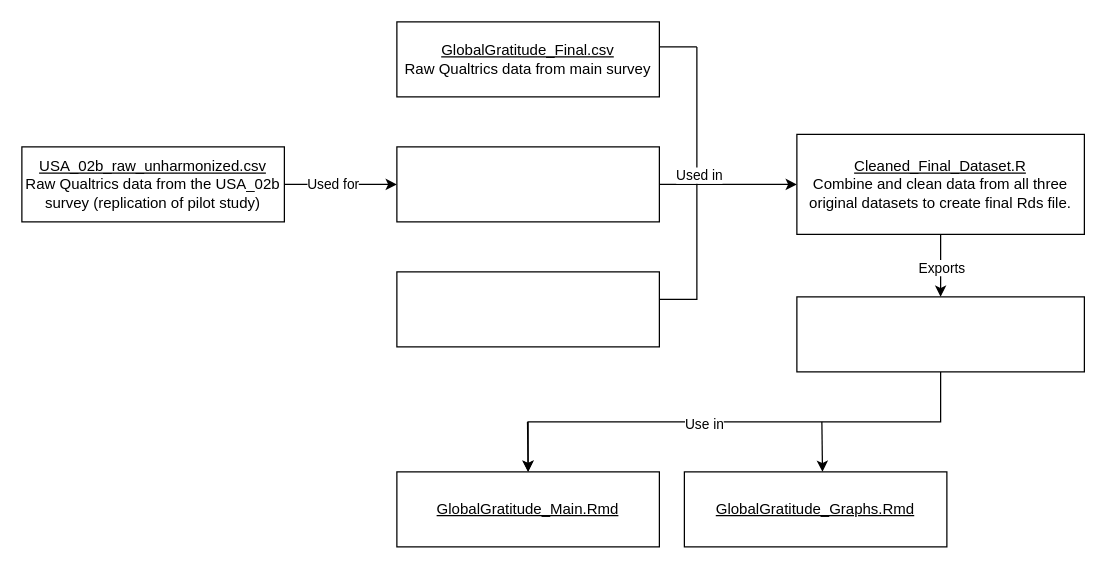
Image size: 1106x569. Some labels were removed from this diagram. The centre of each missing label's shape, as x and y in pixels:
"GlobalGratitude_Final_Cleaned.Rds Final Rds file used for all data analysis)" goes at [940,334].
"USA_02b_raw_harmonized.csv Harmonized to match with GlobalGratitude_Final.csv" goes at [527,184].
"USA_02c.csv Raw Qualtrics data from USA_02c survey (main survey + 1 module)" goes at [527,309].
